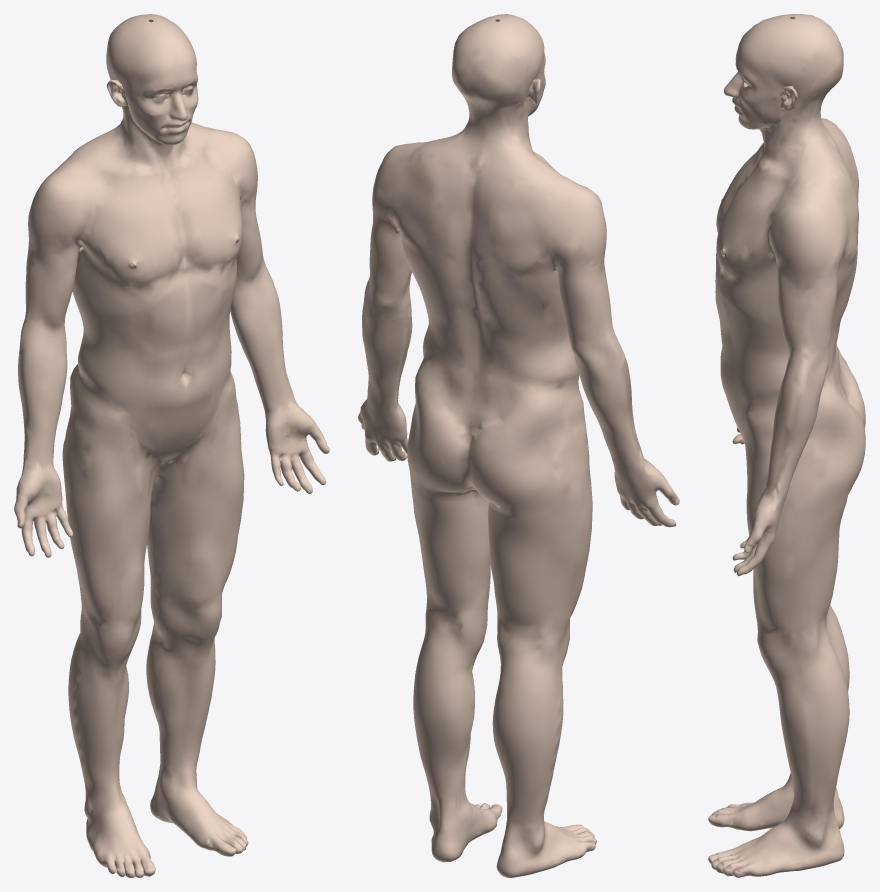
File: integumentary.glb
The picture shows the model from 3 angles, left to right: view 1: azimuth 30°, elevation 25°; view 2: azimuth 150°, elevation 25°; view 3: azimuth 270°, elevation 25°; orthographic projection.
Parts seen in each view (by area): view 1: skin; view 2: skin; view 3: skin.
Boxes of the visible parts, x1,y1,x2,y2 form: skin: [14, 14, 329, 877]; skin: [358, 14, 679, 877]; skin: [708, 14, 865, 877].
Size of the model in its own units: 0.6799 by 1.71 by 0.2939.
